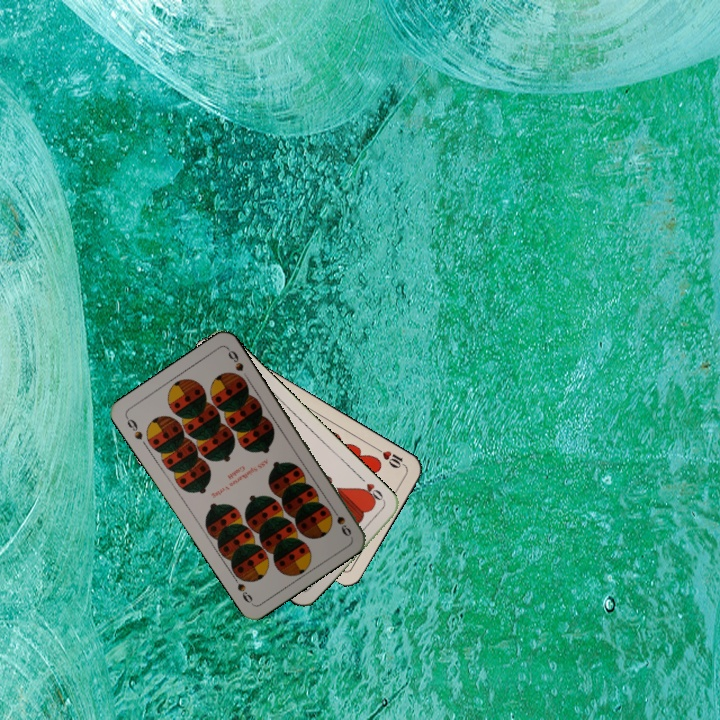H10: (371, 444, 408, 471)
HO: (356, 473, 388, 506)
S9: (327, 502, 354, 539), (122, 413, 145, 442)
